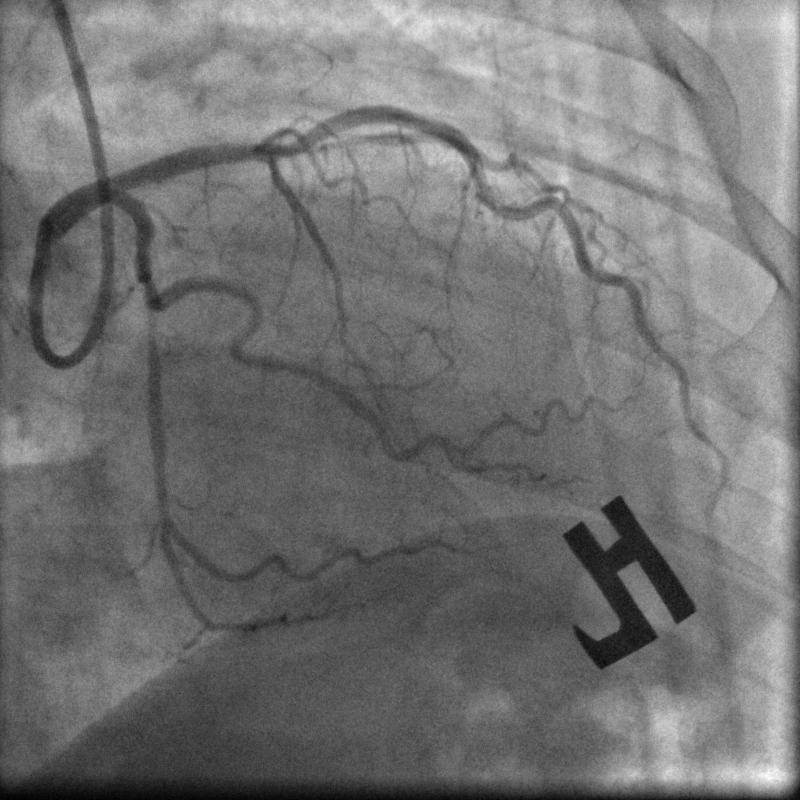Stenosis: (136, 246, 166, 308)
